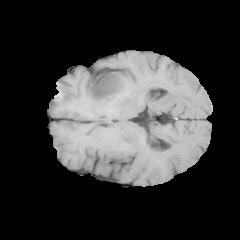glioma: (87, 70, 126, 102)
